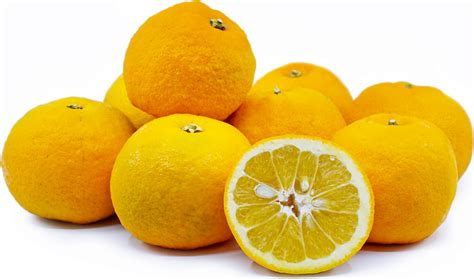orange: (109, 116, 253, 255), (329, 113, 459, 247), (2, 95, 130, 228), (120, 1, 259, 123)
